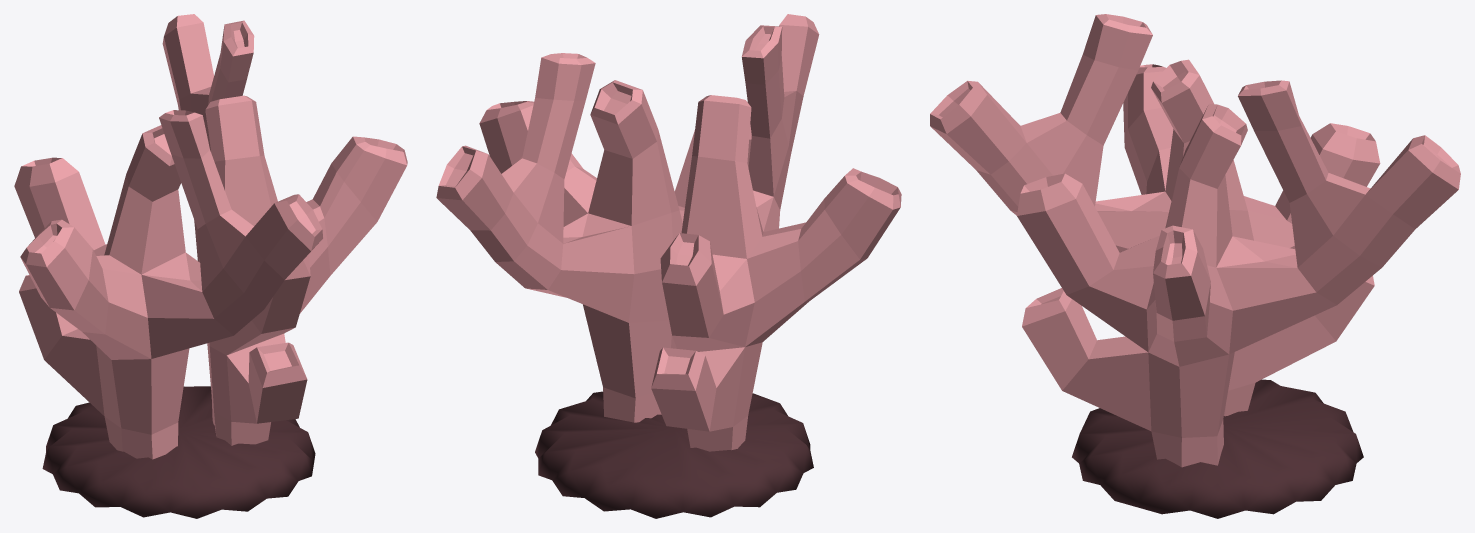
Rendered from Pink Coral.fbx.
The picture shows the model from 3 angles, left to right: view 1: azimuth 30°, elevation 25°; view 2: azimuth 150°, elevation 25°; view 3: azimuth 270°, elevation 25°; orthographic projection. The views are drawn at different scales.
Visible parts, largest first — view 1: Pink Coral; view 2: Pink Coral; view 3: Pink Coral.
Part boxes in pixels (x1=…): Pink Coral: x1=14, y1=14, x2=407, y2=518; Pink Coral: x1=436, y1=14, x2=901, y2=518; Pink Coral: x1=930, y1=14, x2=1460, y2=518.
Bounding box in the file's own units: 0.5686 × 0.5589 × 0.6301.
